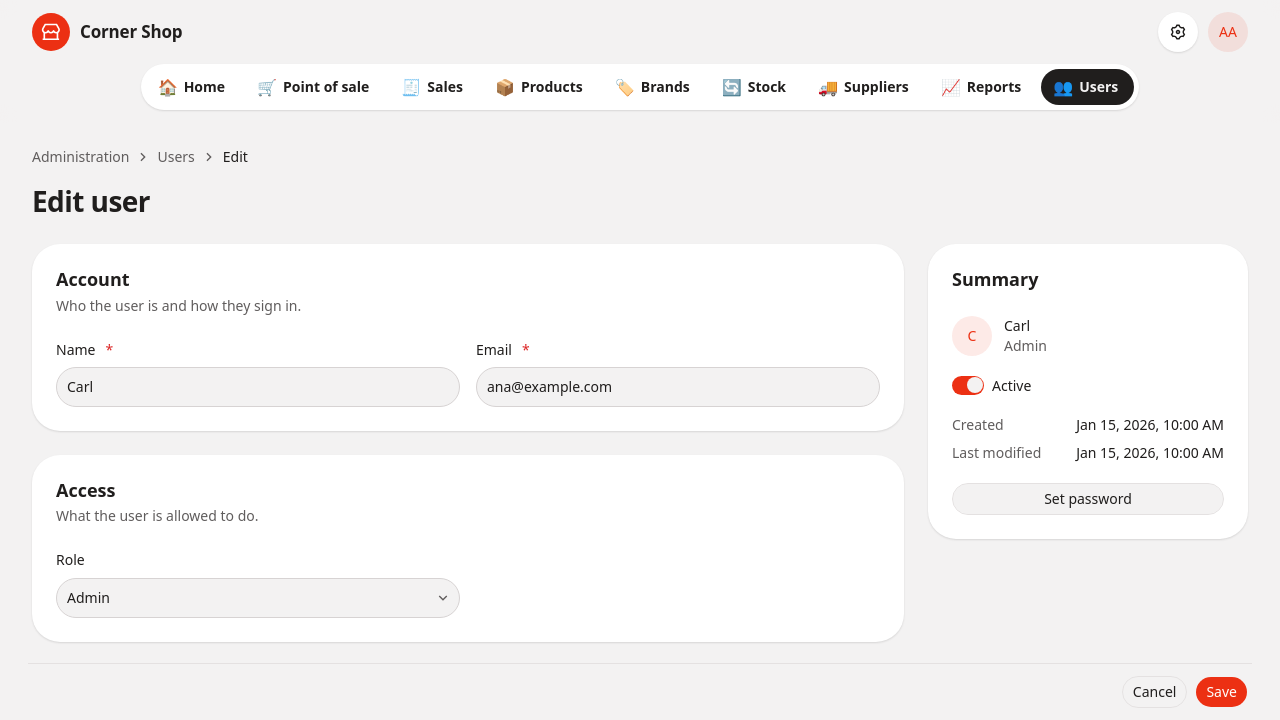
UserFormPage › shows the conflict alert on 409
Type "y" into the field labelled "Name" at (258, 387), box 56,367 -> 460,407
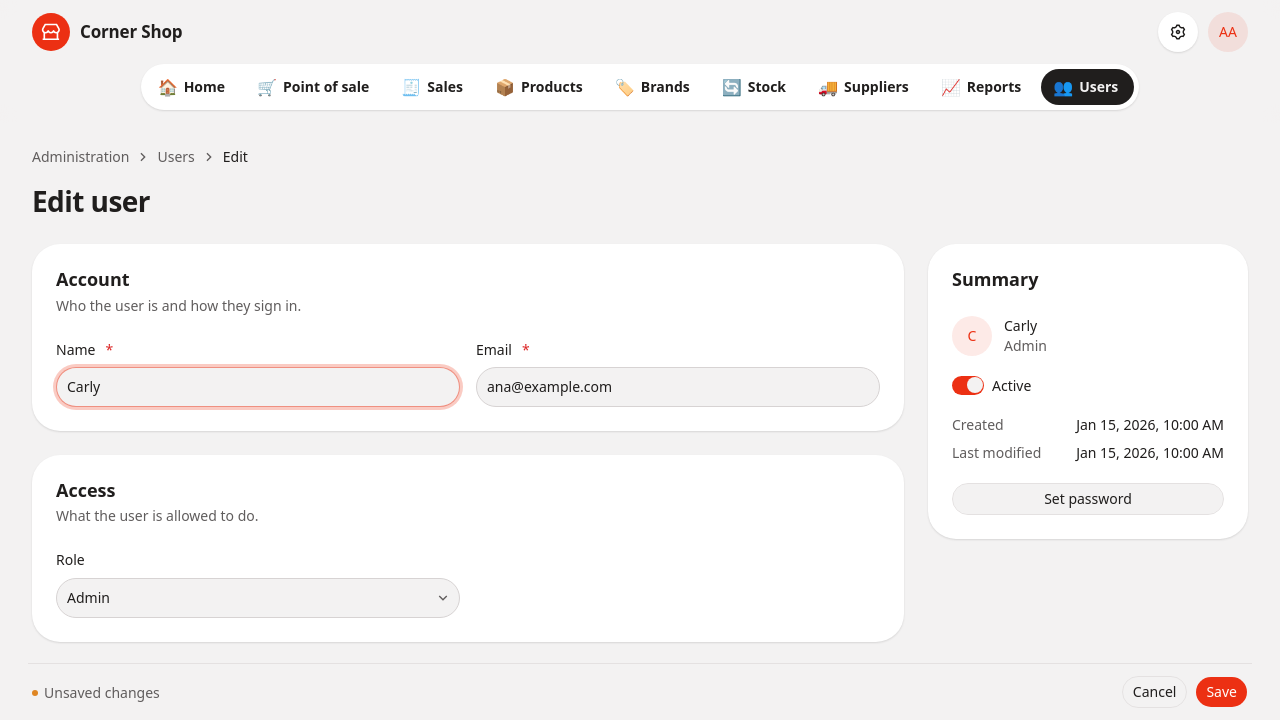
Click the button "Save" at (1222, 692), box 1195,676 -> 1248,708
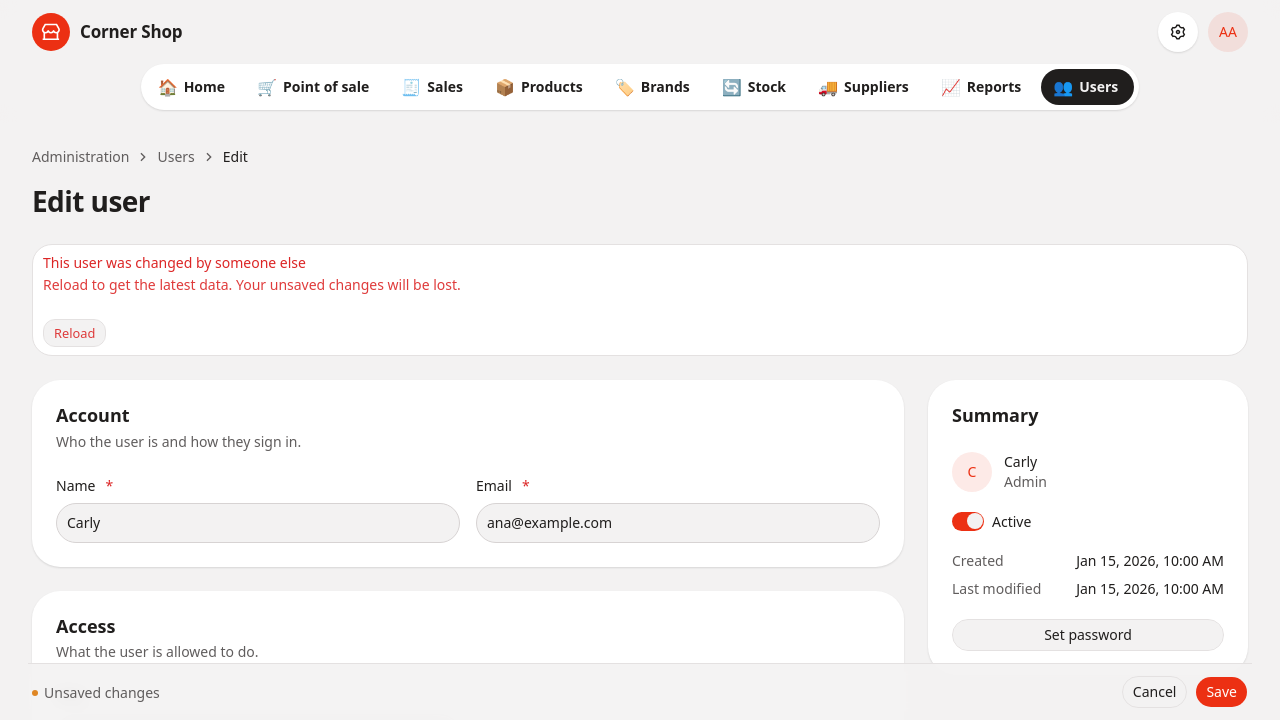
Now the text "This user was changed by someone else" is shown, box 43,253 -> 306,272
Now the button "Reload" is shown, box 43,319 -> 106,347
